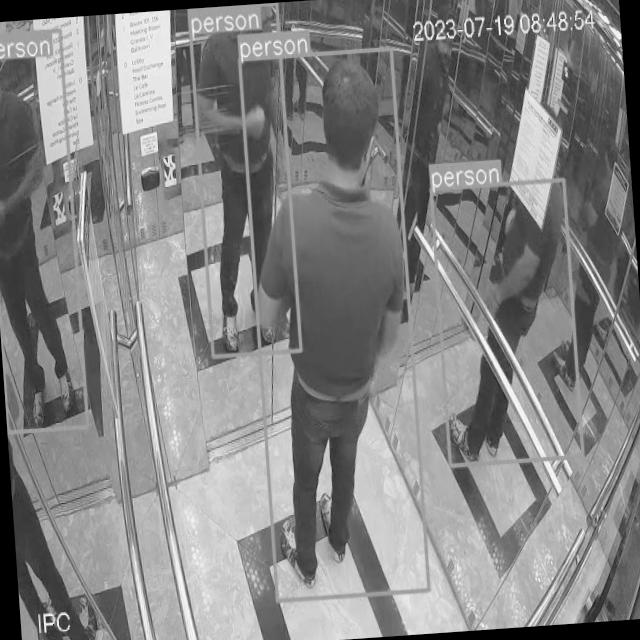person: (241, 45, 429, 602), (431, 180, 584, 464), (191, 20, 302, 355), (0, 32, 87, 431)
